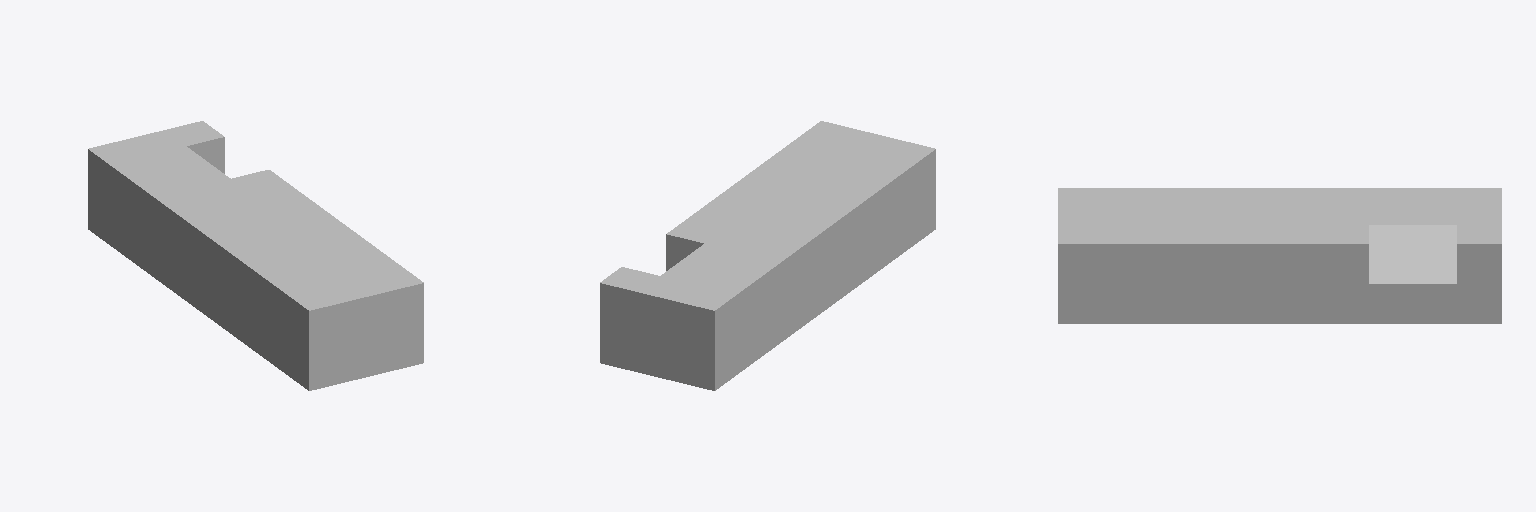
Rendered from Sidewalk5.obj.
The picture shows the model from 3 angles: view 1: azimuth 30°, elevation 25°; view 2: azimuth 150°, elevation 25°; view 3: azimuth 270°, elevation 25°; orthographic projection.
Visible parts, largest first — view 1: SIDEWALK-MAIN, SIDEWALK-EDGE-2, SIDEWALK-EDGE-1; view 2: SIDEWALK-MAIN, SIDEWALK-EDGE-2, SIDEWALK-EDGE-1; view 3: SIDEWALK-EDGE-2, SIDEWALK-MAIN, RAMP, SIDEWALK-EDGE-1.
Boxes of the visible parts, x1=… form: SIDEWALK-MAIN: x1=88, y1=130, x2=385, y2=390; SIDEWALK-EDGE-2: x1=232, y1=170, x2=423, y2=371; SIDEWALK-EDGE-1: x1=165, y1=121, x2=224, y2=173; SIDEWALK-MAIN: x1=638, y1=130, x2=935, y2=390; SIDEWALK-EDGE-2: x1=666, y1=121, x2=858, y2=270; SIDEWALK-EDGE-1: x1=600, y1=267, x2=659, y2=371; SIDEWALK-EDGE-2: x1=1058, y1=225, x2=1368, y2=323; SIDEWALK-MAIN: x1=1058, y1=188, x2=1501, y2=224; RAMP: x1=1369, y1=225, x2=1456, y2=323; SIDEWALK-EDGE-1: x1=1457, y1=225, x2=1501, y2=323.
Size of the model in its own units: 3 by 2 by 10.